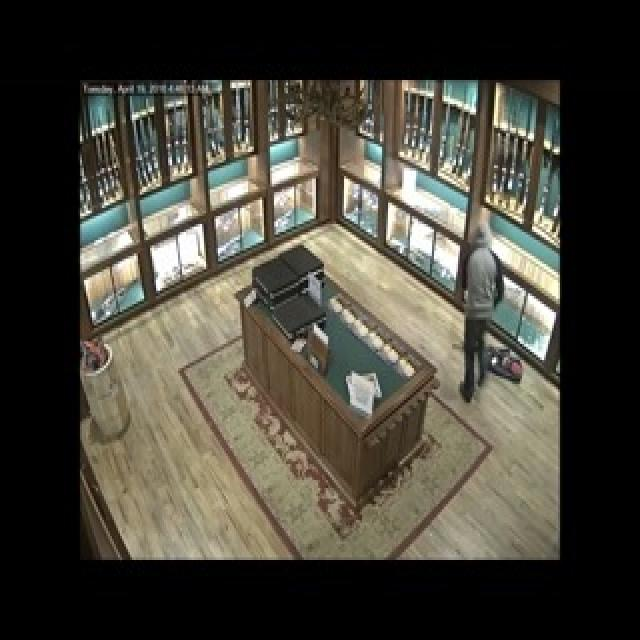thief: (452, 216, 510, 397)
